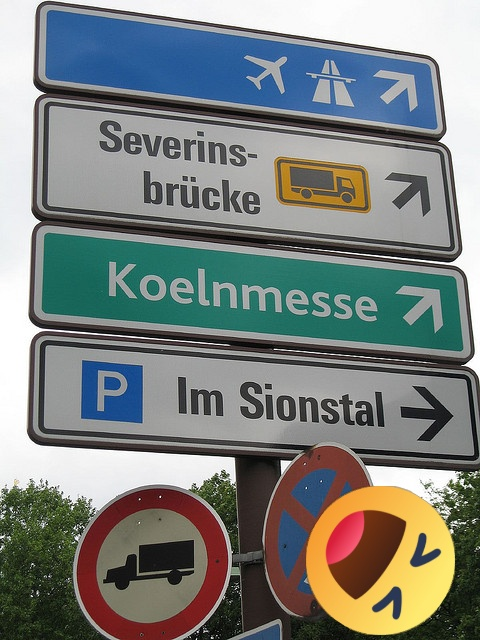haha: (306, 486, 455, 635)
